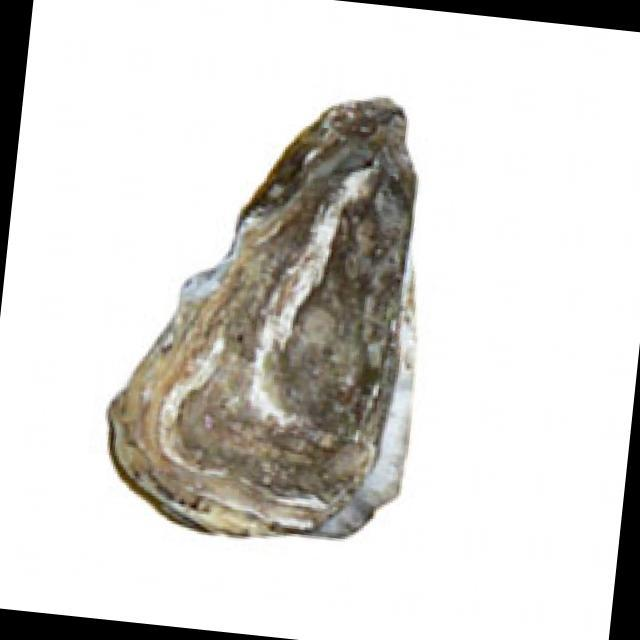Oyster- Indeterminate: (106, 98, 419, 540)
